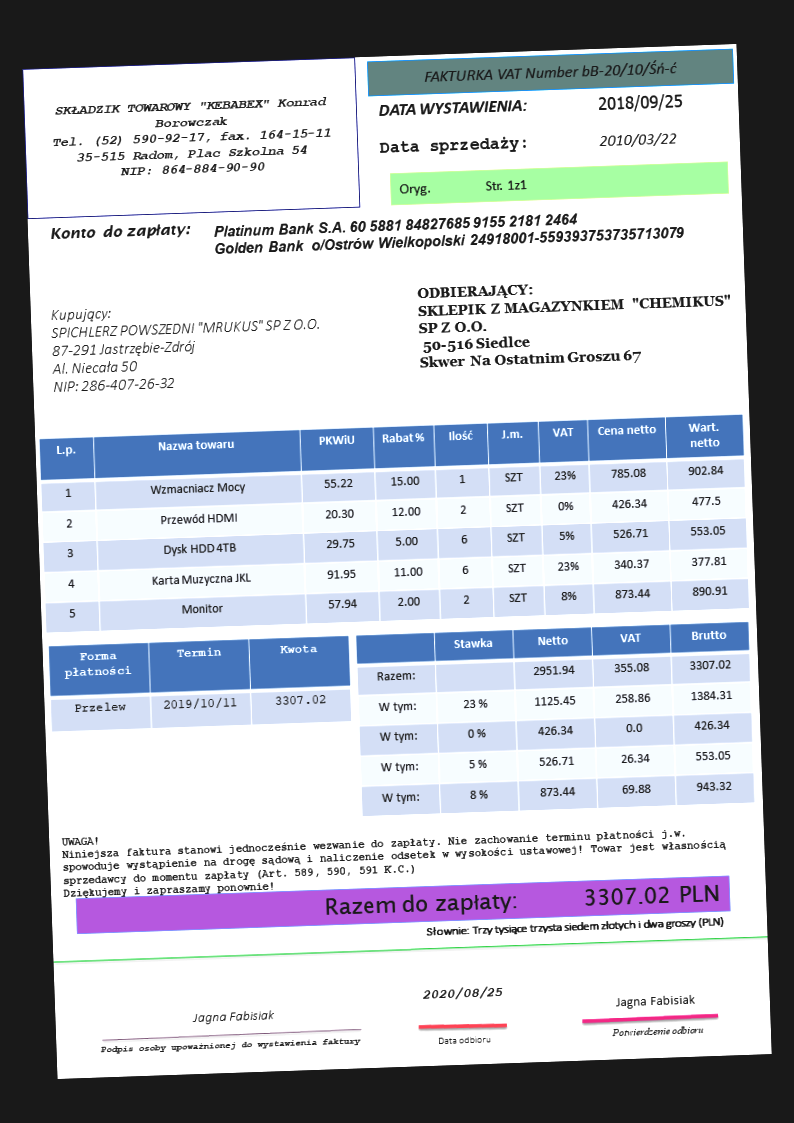Table: (37, 412, 751, 633), (355, 621, 756, 818), (46, 633, 353, 734)
TextBox: (59, 813, 728, 901), (415, 275, 733, 371), (47, 296, 322, 395), (210, 205, 686, 258), (50, 93, 335, 181), (322, 879, 721, 922), (423, 913, 726, 941), (420, 59, 681, 87), (98, 1033, 362, 1057), (377, 132, 530, 159), (376, 96, 530, 120), (47, 220, 192, 245), (396, 176, 529, 199), (595, 90, 685, 114), (610, 1022, 705, 1040), (597, 131, 679, 149), (613, 992, 695, 1010), (190, 1008, 275, 1025), (421, 985, 505, 1001), (435, 1032, 493, 1048)
